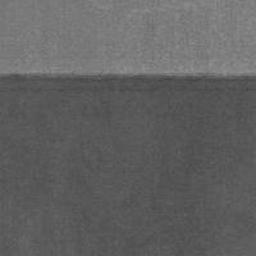Welding line: (0, 72, 256, 84)
